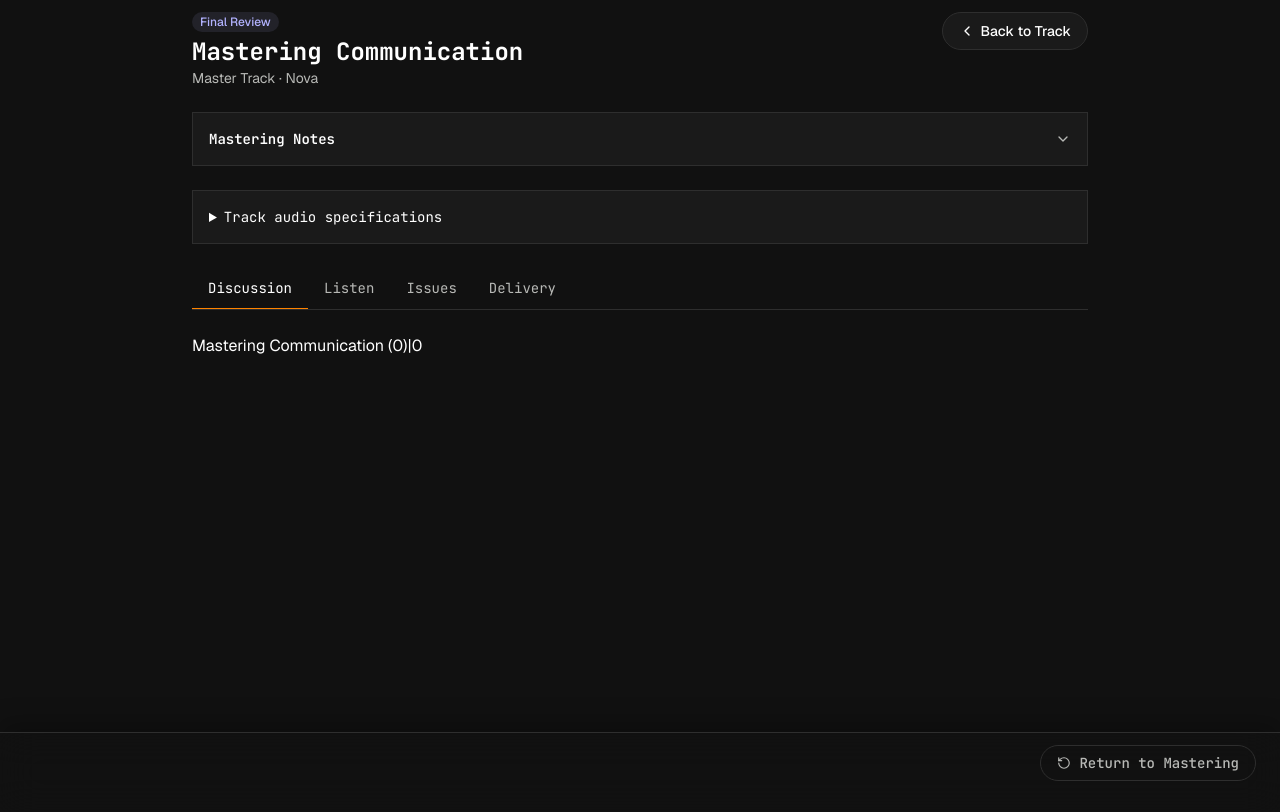
Test: MasteringView › shows final approval for the submitter after the confirmed delivery enters final review
This screenshot has width=1280, height=812.
Click the button "Delivery" at (522, 289), box [473, 268, 572, 310]
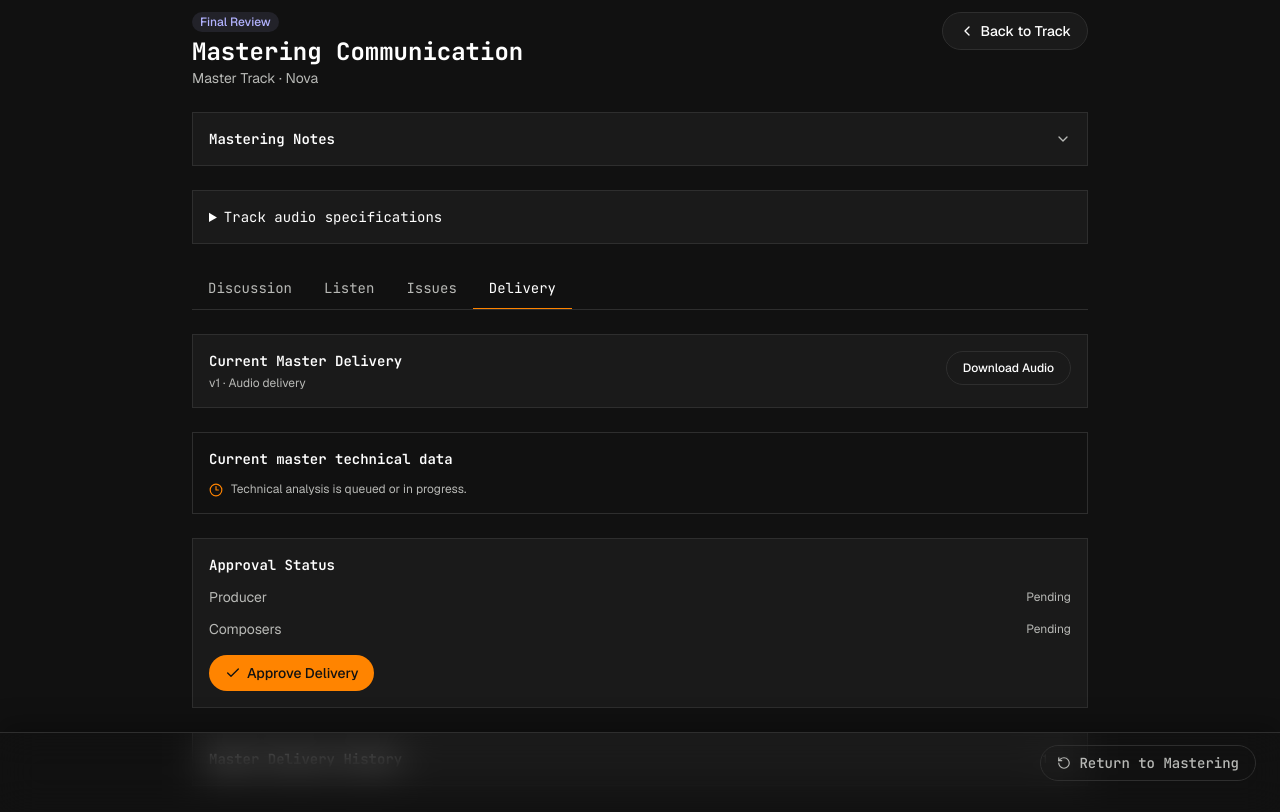
Now the text "Approve Delivery" is shown, box [209, 655, 374, 691]
